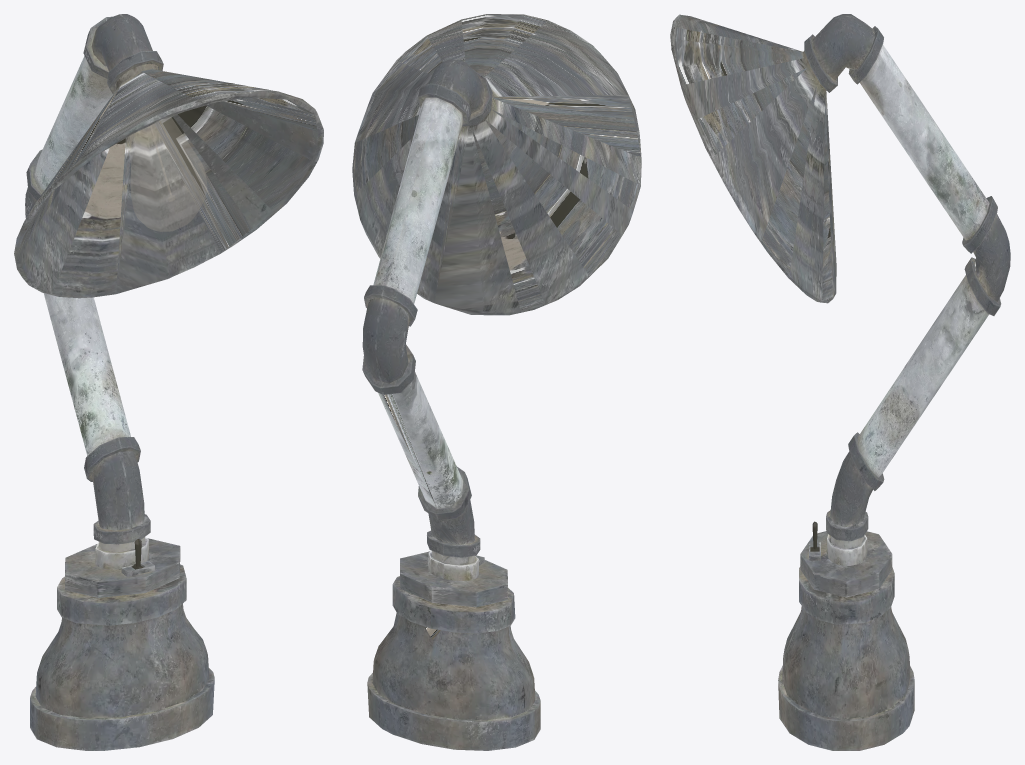
The model's file is industrial_pipe_lamp_lod2.glb.
3 renders of one model, left to right at view 1: azimuth 30°, elevation 25°; view 2: azimuth 150°, elevation 25°; view 3: azimuth 270°, elevation 25°, orthographic. The views are drawn at different scales.
Visible parts, largest first — view 1: industrial_pipe_lamp, industrial_pipe_lamp_bulb; view 2: industrial_pipe_lamp; view 3: industrial_pipe_lamp.
Boxes of the visible parts, box(x1,y1,x2,y2) form: industrial_pipe_lamp: box(14, 14, 323, 750); industrial_pipe_lamp_bulb: box(130, 117, 207, 231); industrial_pipe_lamp: box(352, 14, 641, 750); industrial_pipe_lamp: box(670, 14, 1010, 750).
Size of the model in its own units: 0.1994 by 0.45 by 0.2.
Materials: 2 (2 with a texture image).
